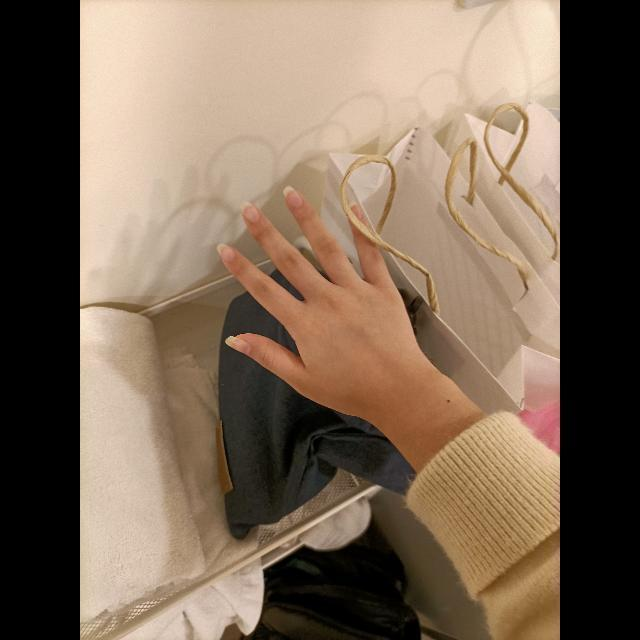bare_hand: (217, 187, 433, 416)
